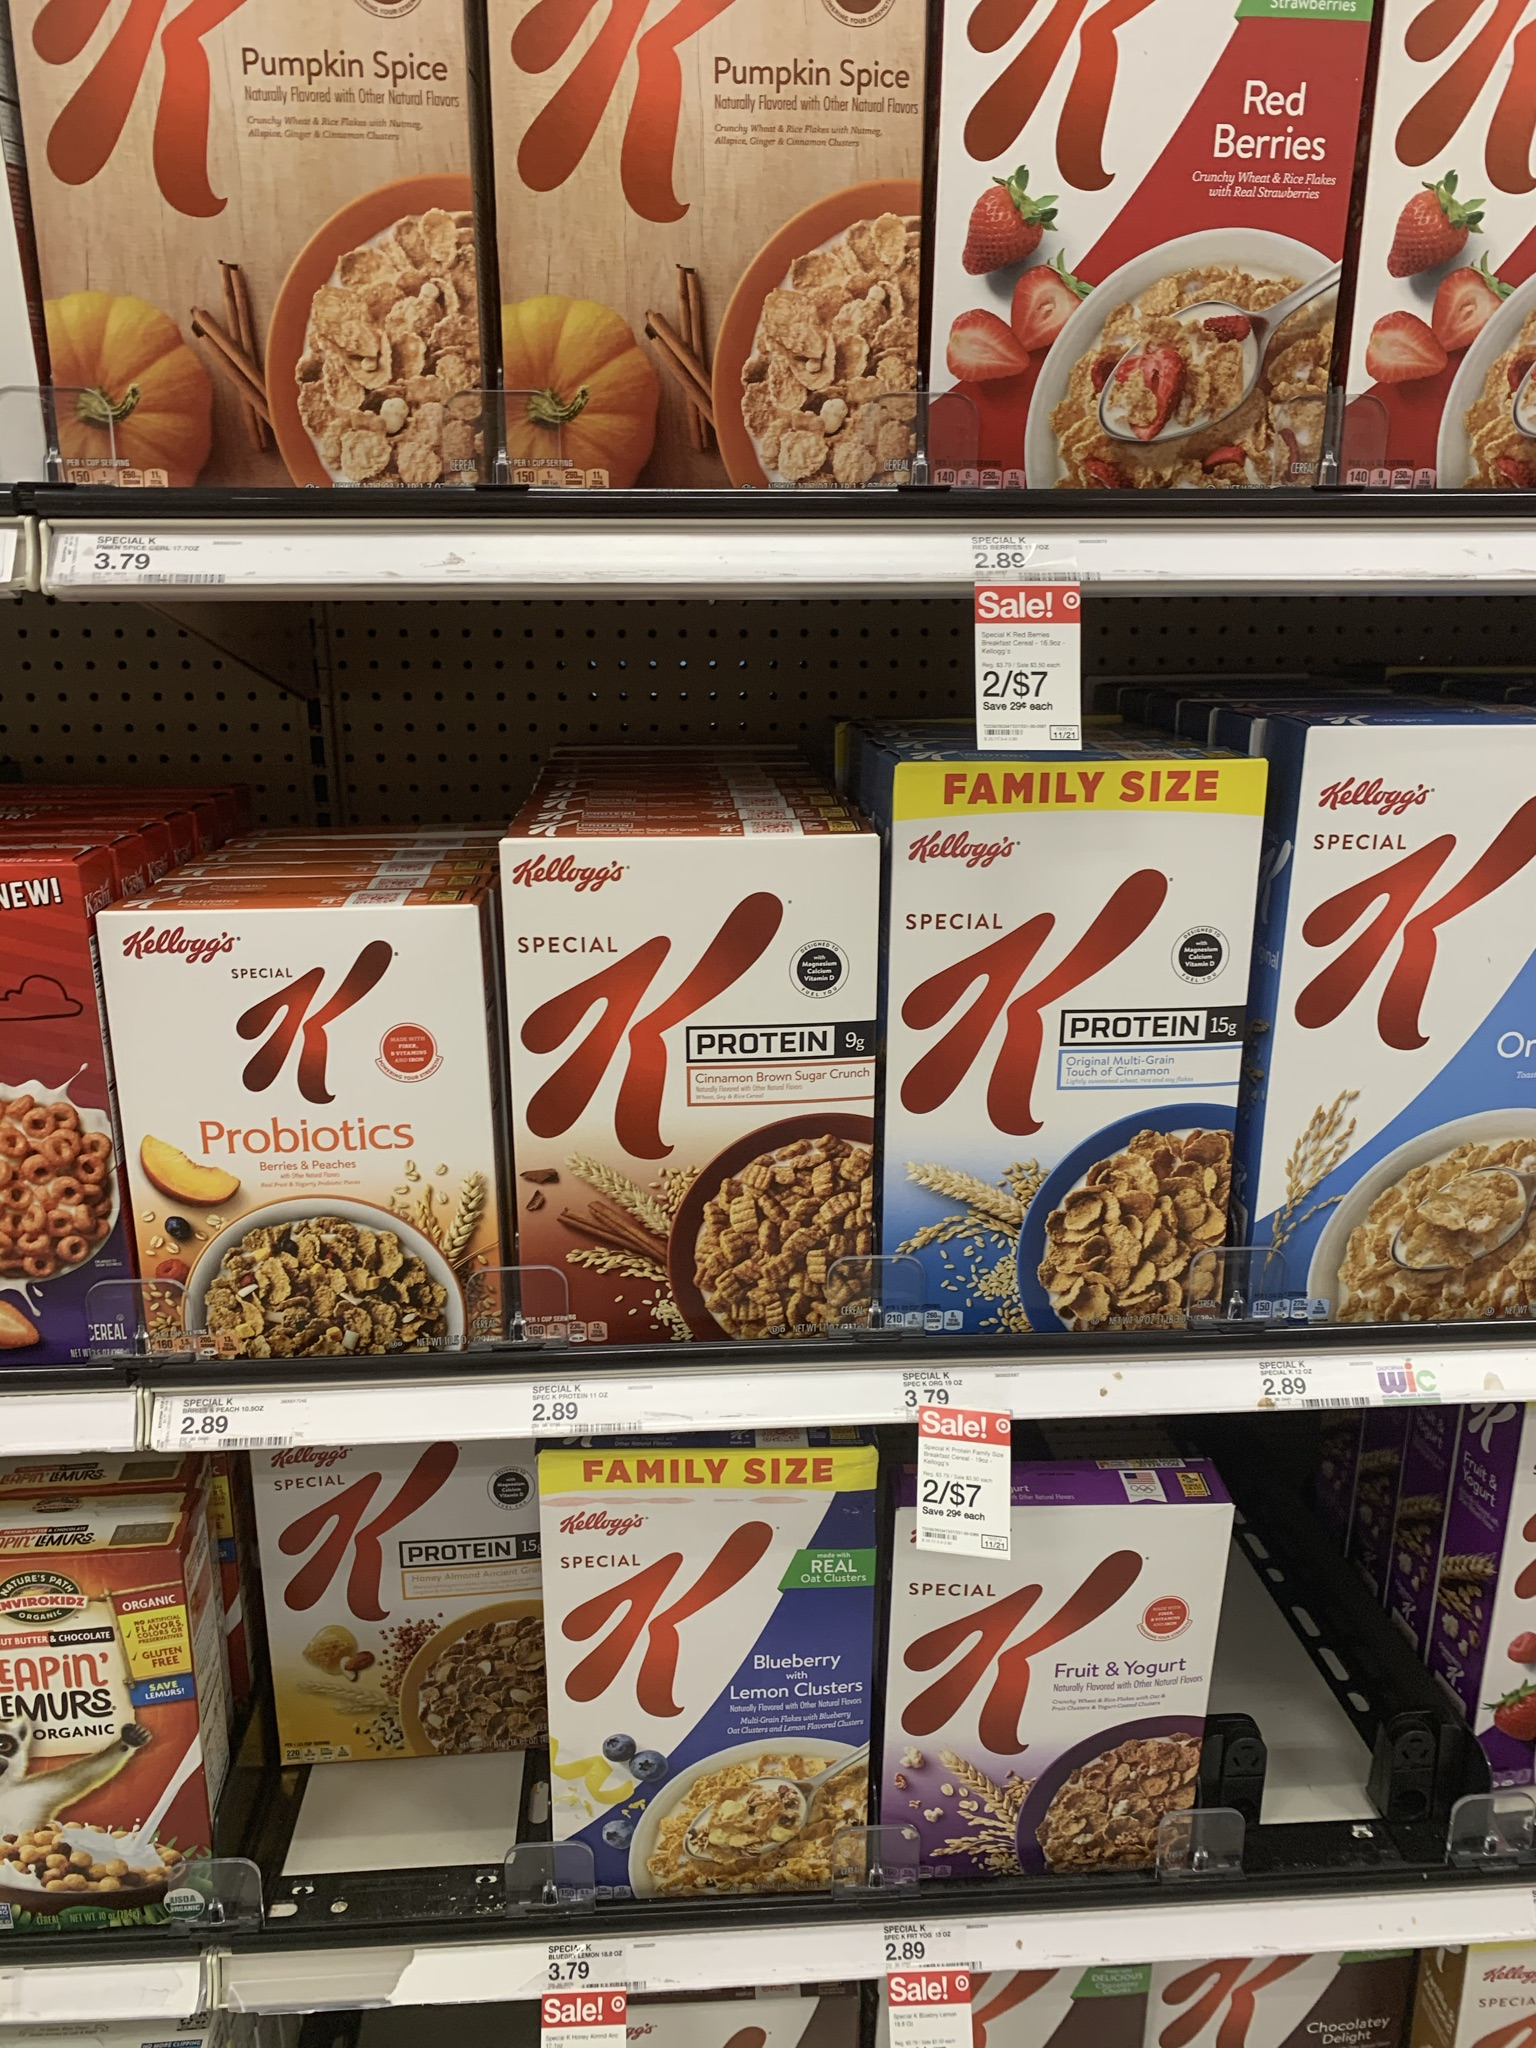cereal: (8, 2, 484, 498), (495, 6, 913, 500), (895, 761, 1233, 1334), (90, 918, 510, 1374), (944, 8, 1329, 500), (505, 842, 874, 1347), (1267, 726, 1536, 1335), (531, 1450, 870, 1900), (895, 1508, 1196, 1887), (244, 1443, 553, 1766), (2, 1532, 176, 1959)
